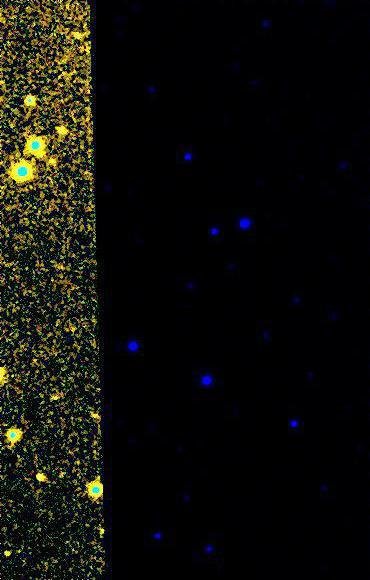star: (0, 361, 17, 391)
